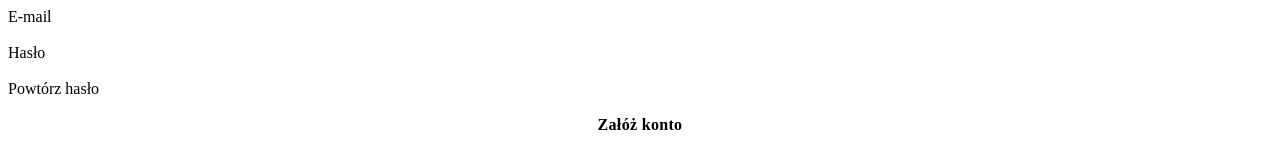
Test case: RegisterForm › rejects a password shorter than eight characters
Type "wanderer@example.com" into the field with id "register-email" at (640, 35), box [8, 26, 1272, 44]
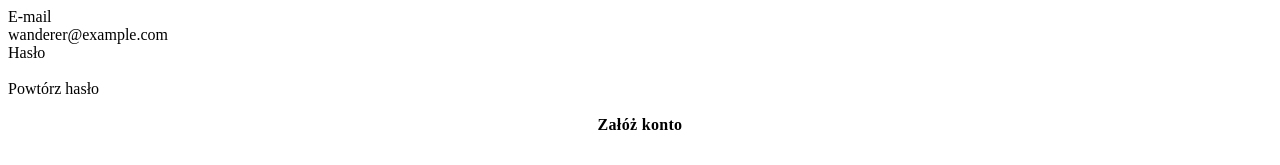
Type "1234567" into the password field with id "register-password" at (640, 71), box [8, 62, 1272, 80]
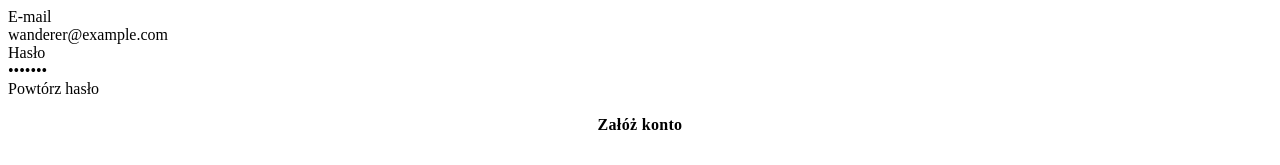
Type "1234567" into the password field with id "register-repeat" at (640, 107), box [8, 98, 1272, 116]
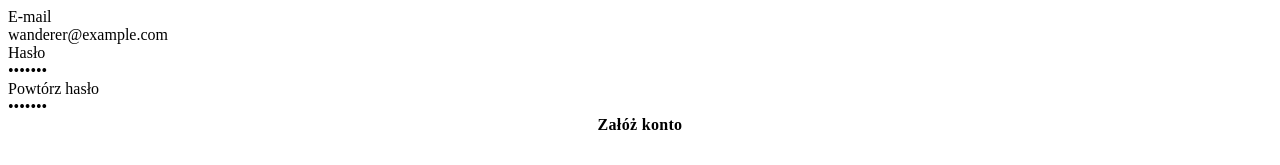
Submit the form
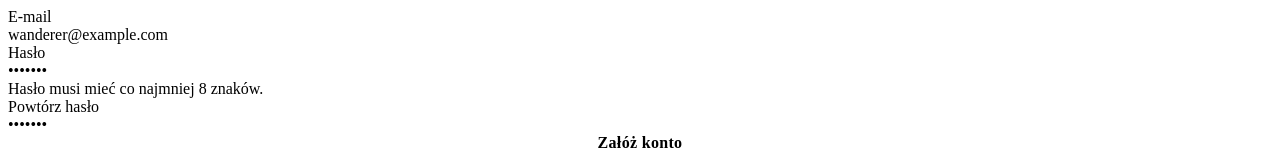
Expected: the form shows "Hasło musi mieć co najmniej 8 znaków.", [8, 80, 263, 97]
